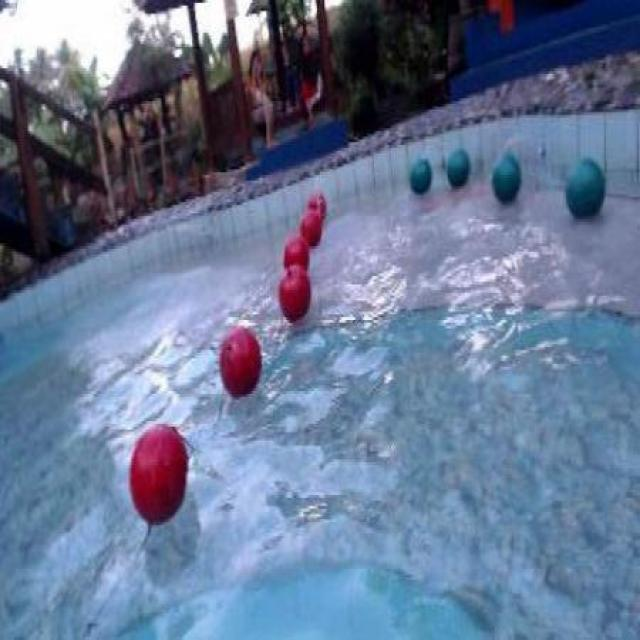buoy: (127, 421, 187, 525), (218, 324, 262, 398), (564, 157, 604, 220), (276, 264, 310, 322), (491, 153, 522, 203), (282, 232, 308, 276), (446, 148, 471, 186), (298, 212, 322, 247), (409, 156, 430, 194), (308, 190, 326, 220)
